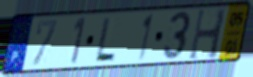1: (137, 11, 158, 64), (70, 16, 87, 67)
3: (161, 10, 193, 61)
7: (31, 19, 60, 69)
H: (187, 8, 229, 63)
L: (92, 16, 117, 63)
